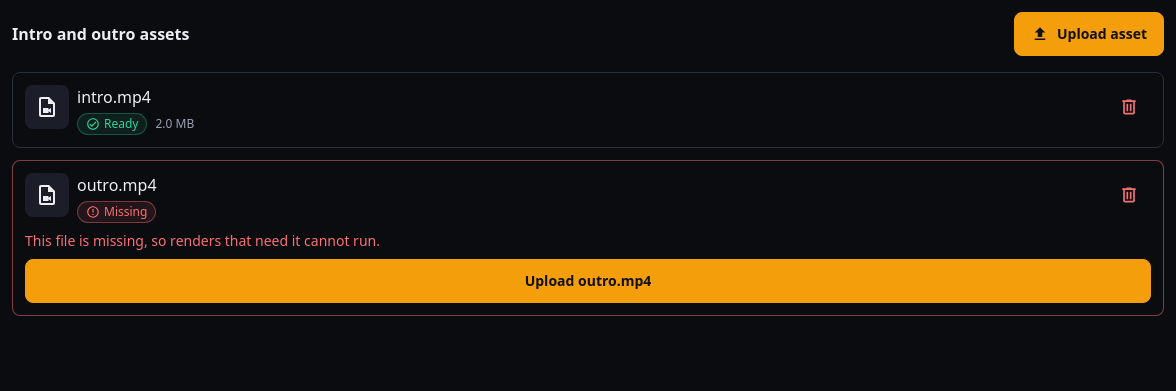
Test: AssetsPanel › explains that an asset still used by a profile cannot be deleted
Click the button named "Delete intro.mp4" at (1129, 107), box [1107,85,1151,129]
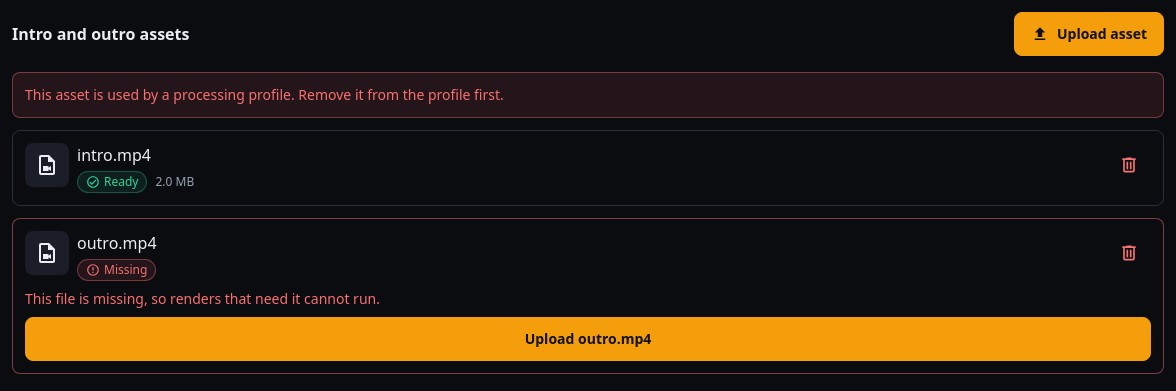
Expected: the text with test id "assets-error" reads "This asset is used by a processing profile. Remove it from the profile first.", [25,85,504,104]
